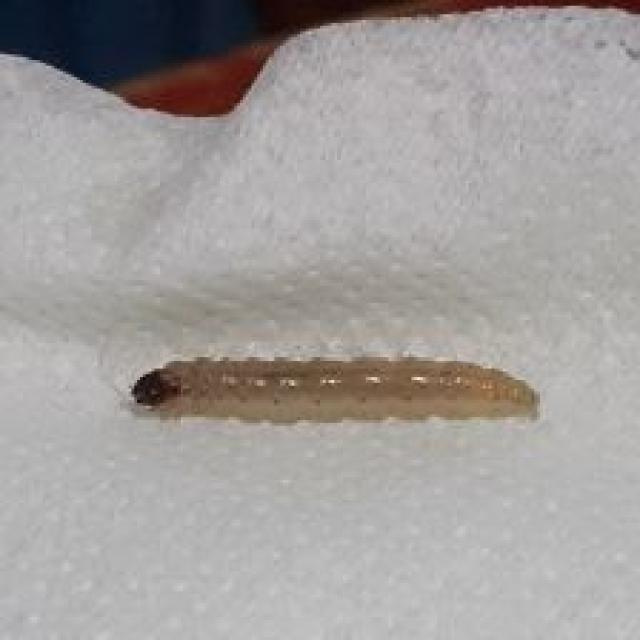white mucus: (122, 319, 547, 439)
